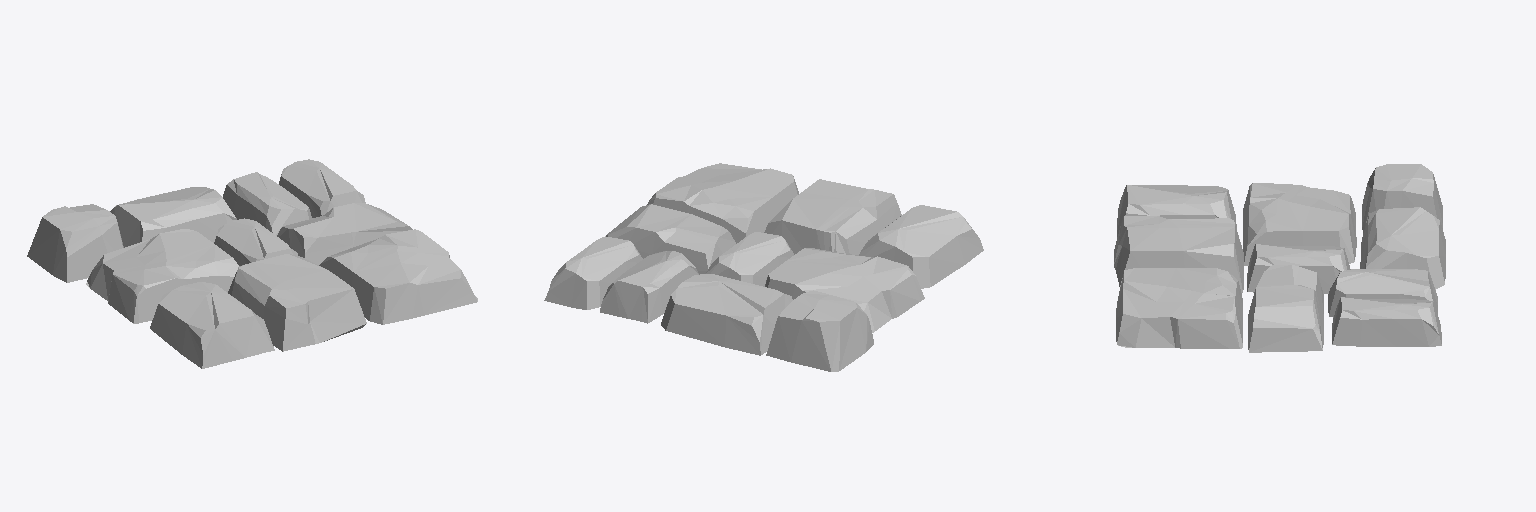
File: RockPath_Square_Small_1.obj
3 views of the same model, side by side, from view 1: azimuth 30°, elevation 25°; view 2: azimuth 150°, elevation 25°; view 3: azimuth 270°, elevation 25° (orthographic).
Parts seen in each view (by area): view 1: RockPath_Square_Small_1; view 2: RockPath_Square_Small_1; view 3: RockPath_Square_Small_1.
Boxes of the visible parts, box(x1,y1,x2,y2) form: RockPath_Square_Small_1: box(27, 159, 477, 368); RockPath_Square_Small_1: box(544, 163, 983, 371); RockPath_Square_Small_1: box(1114, 164, 1445, 352).
Bounding box in the file's own units: 1.02 × 0.1499 × 0.9739.